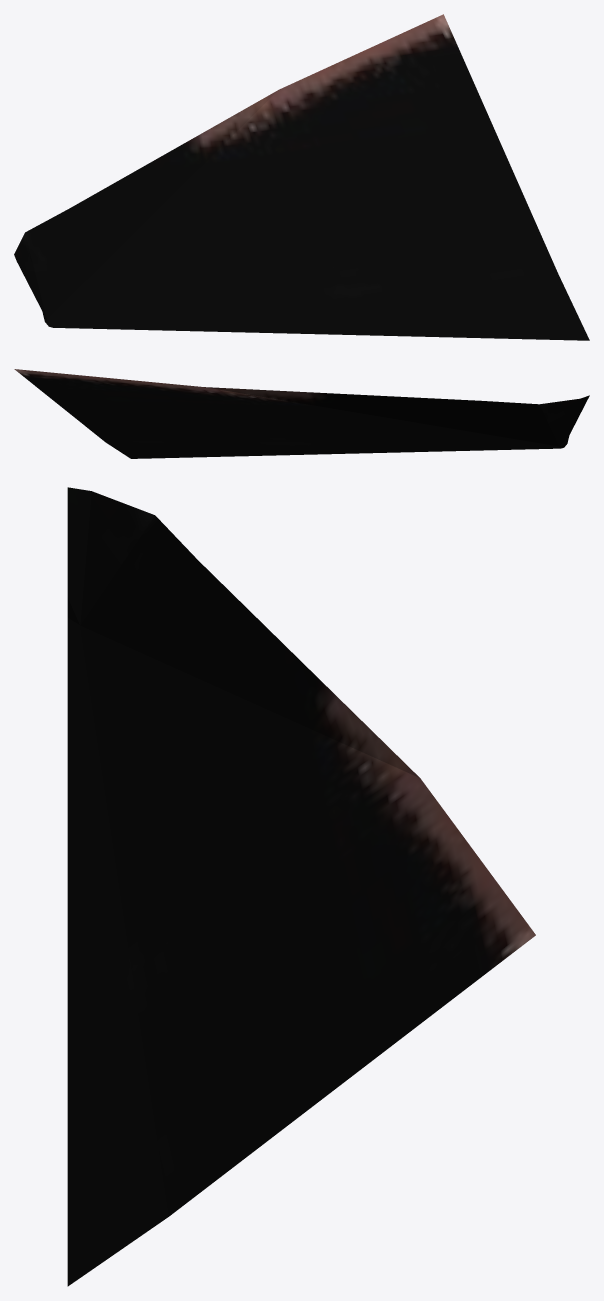
3 renders of one model, top to bottom at view 1: azimuth 30°, elevation 25°; view 2: azimuth 150°, elevation 25°; view 3: azimuth 270°, elevation 25°, orthographic. The views are drawn at different scales.
Bounding box in the file's own units: 1.57 × 0.5728 × 0.6919.
Materials: 1 (1 with a texture image).
